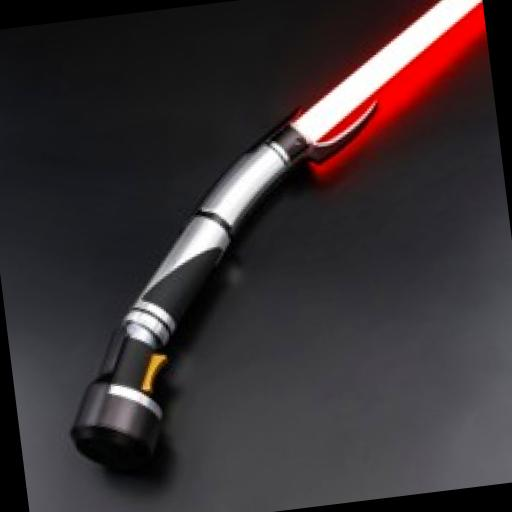sith saber: (20, 0, 512, 477)
